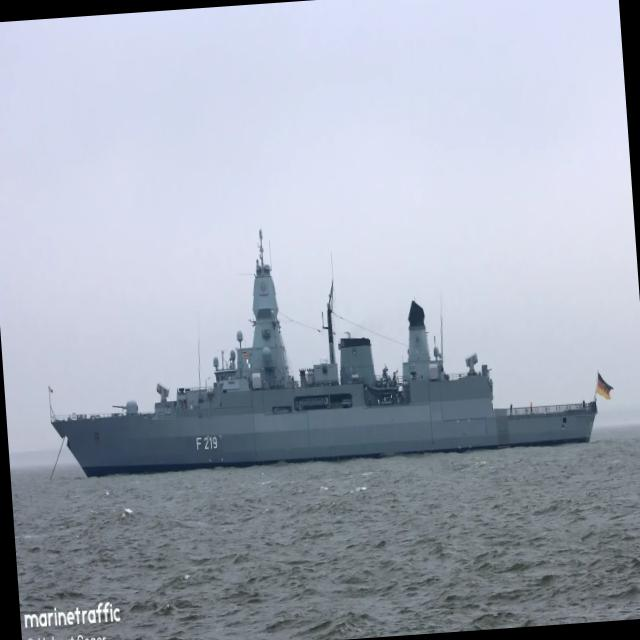Military: (50, 232, 596, 476)
